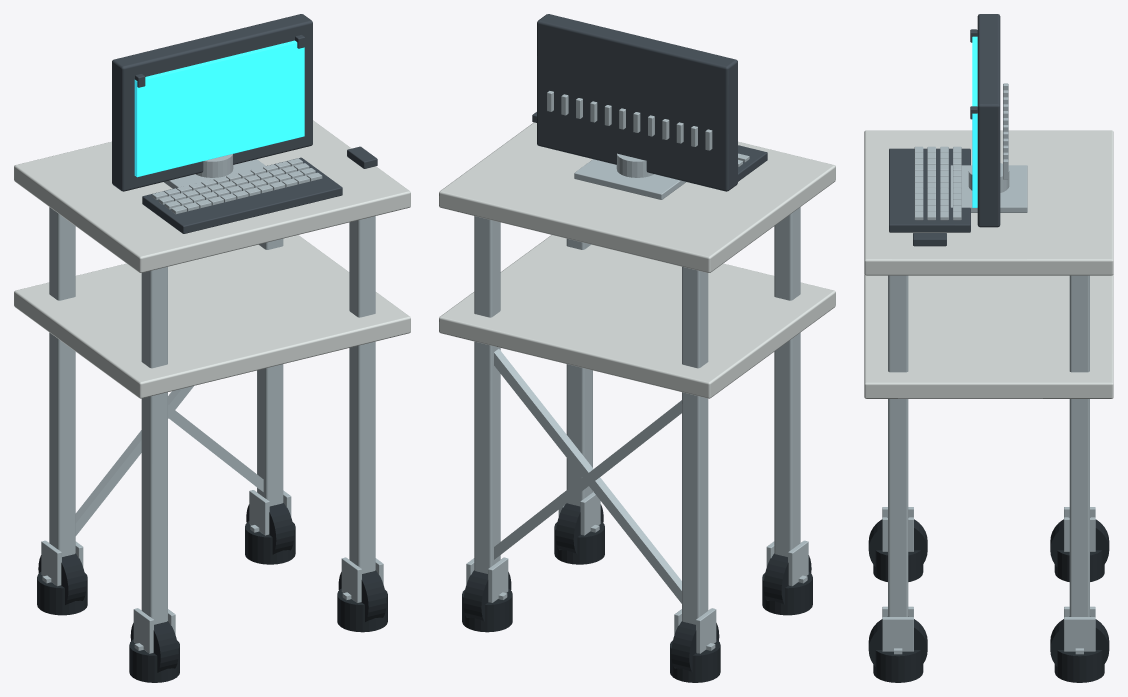
Rendered from data-centre-infiltration-kit-data-centre-infiltration--f66017a6__29256.glb.
3 renders of one model, left to right at view 1: azimuth 30°, elevation 25°; view 2: azimuth 150°, elevation 25°; view 3: azimuth 270°, elevation 25°, orthographic.
Visible parts, largest first — view 1: data-centre-infiltration-kit-crash-cart; view 2: data-centre-infiltration-kit-crash-cart; view 3: data-centre-infiltration-kit-crash-cart.
Part boxes in pixels (x1=…): data-centre-infiltration-kit-crash-cart: x1=14, y1=14, x2=410, y2=682; data-centre-infiltration-kit-crash-cart: x1=439, y1=14, x2=835, y2=682; data-centre-infiltration-kit-crash-cart: x1=864, y1=14, x2=1113, y2=682.
Bounding box in the file's own units: 0.68 × 1.37 × 0.55.
